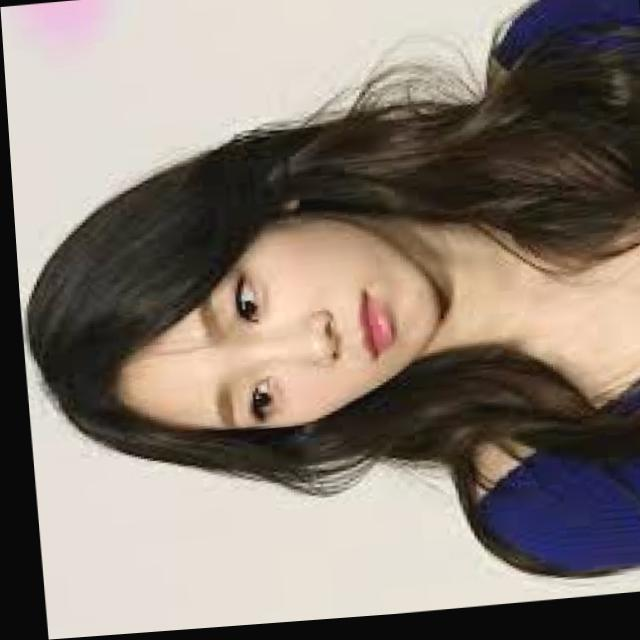face: (24, 163, 458, 446)
